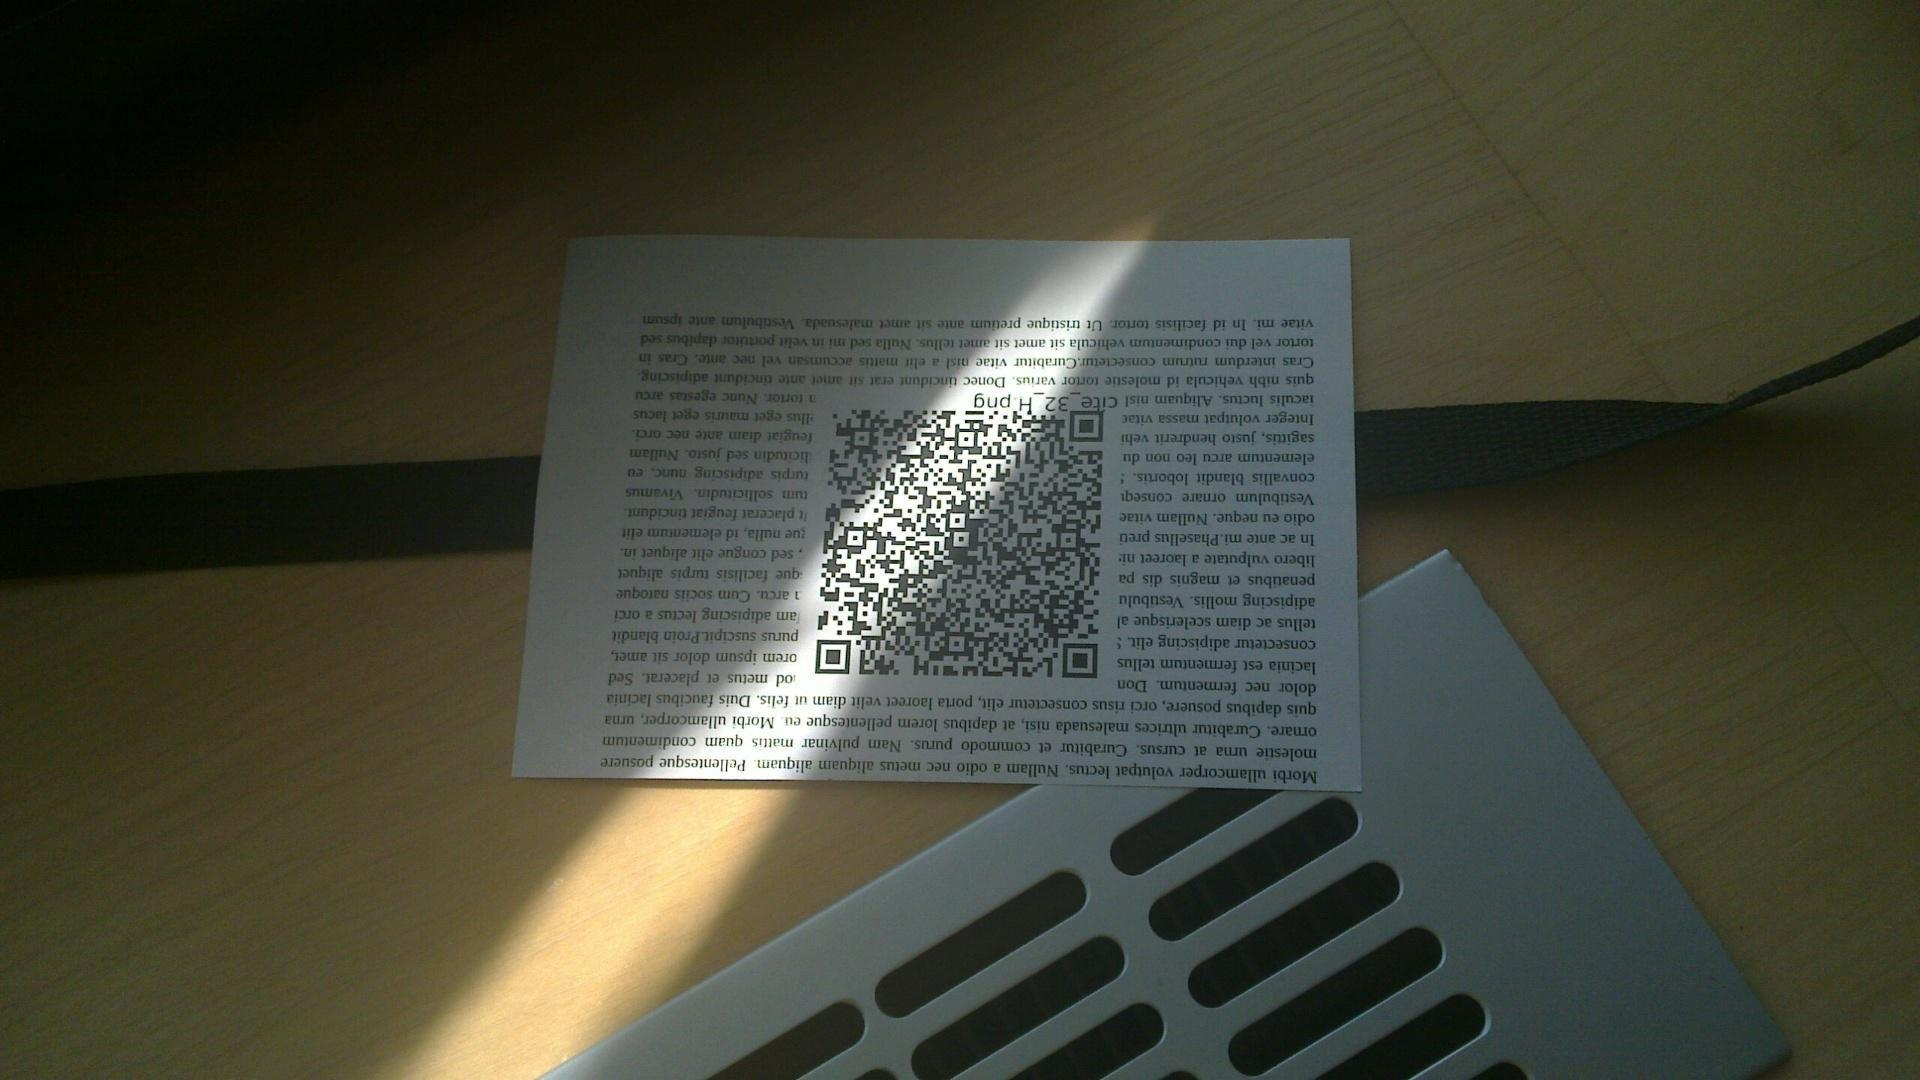qr_code: (815, 410, 1105, 679)
